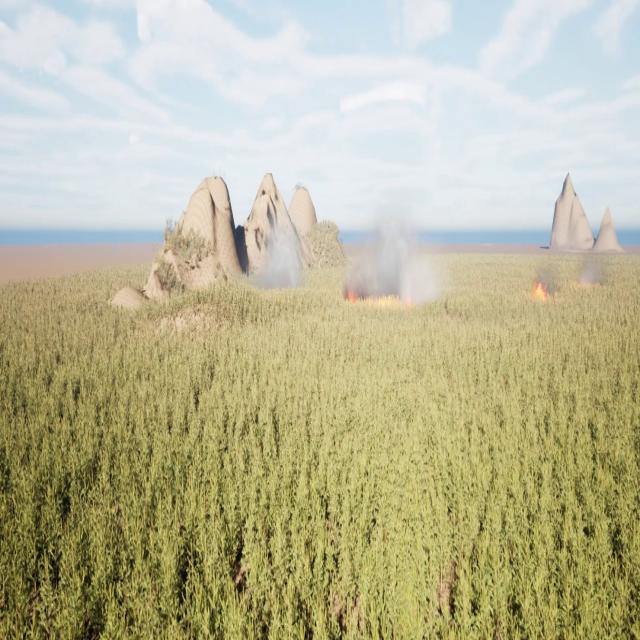fire: (530, 280, 550, 301), (344, 282, 361, 303)
smoke: (338, 222, 438, 304), (248, 228, 304, 291), (575, 252, 605, 291)
